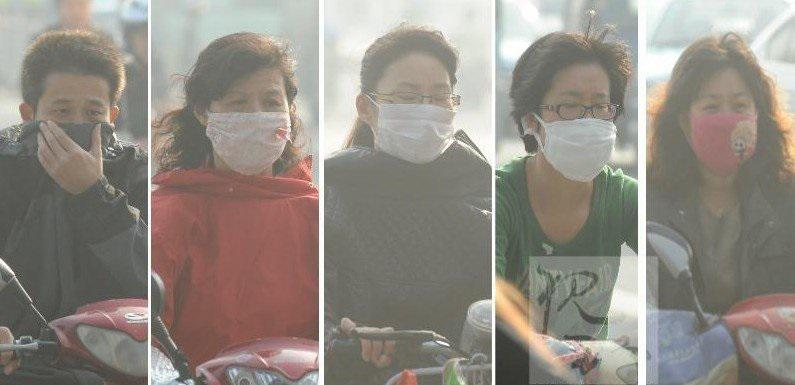NONE: (39, 94, 111, 166)
OK: (535, 87, 618, 180), (212, 84, 299, 171), (373, 77, 455, 161), (684, 91, 765, 172)
